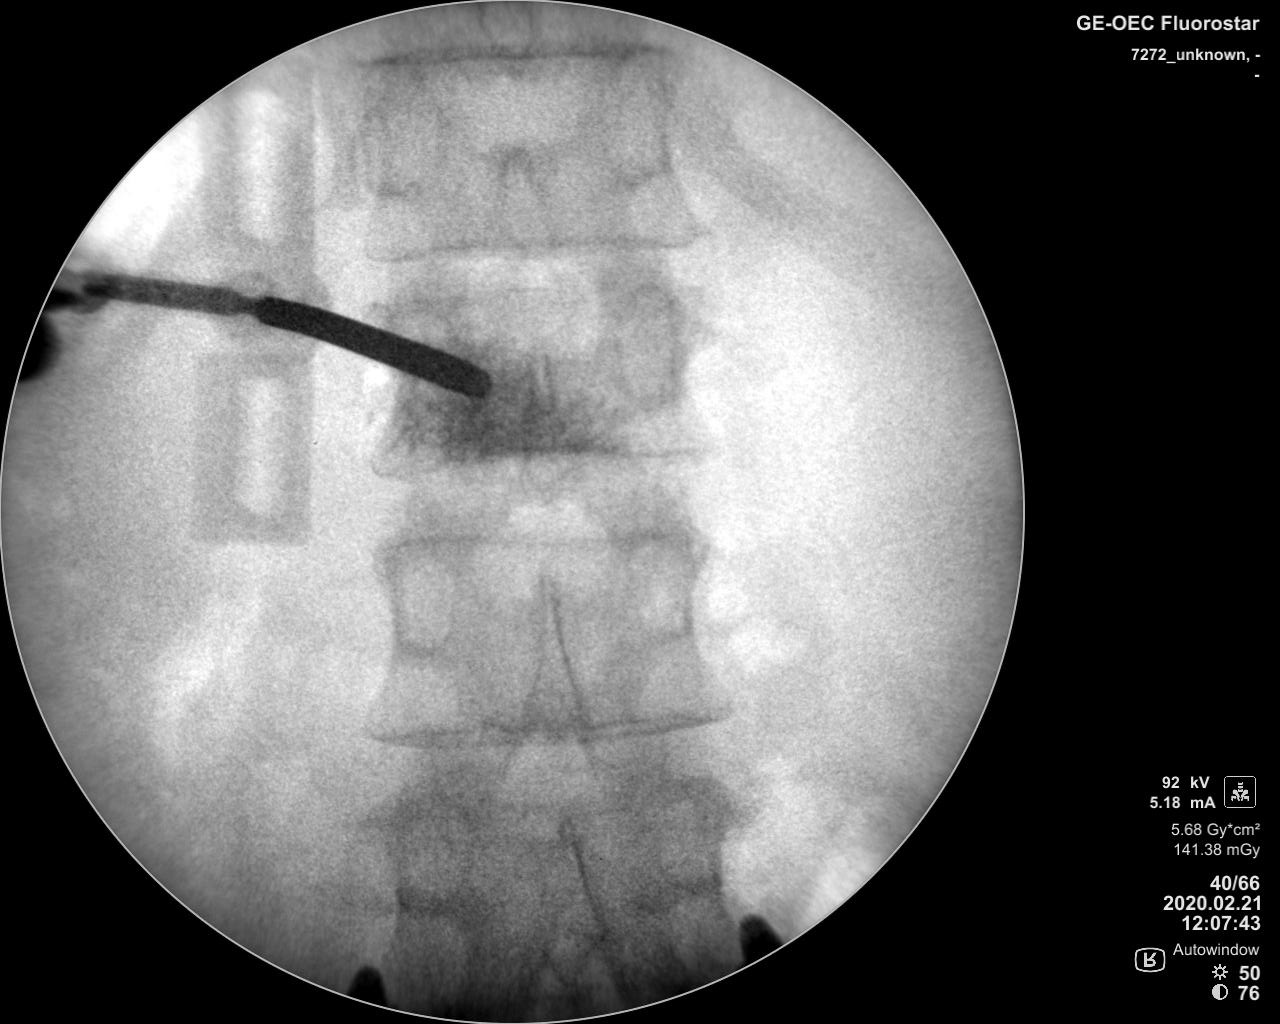eyes: (585, 60, 678, 185), (352, 87, 446, 202), (615, 277, 688, 411), (626, 529, 703, 639), (385, 545, 456, 655)
line: (344, 703, 737, 755), (346, 224, 711, 270), (359, 436, 715, 478), (352, 36, 695, 76)
nose: (518, 562, 584, 747), (537, 806, 607, 959), (514, 344, 573, 511), (493, 130, 550, 258)
